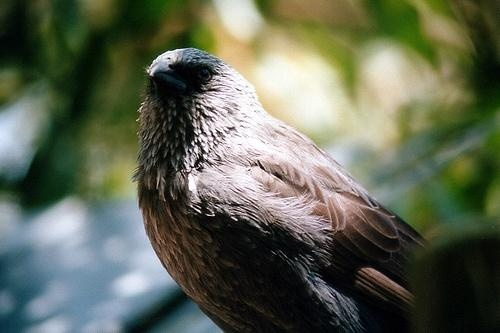bird: (133, 47, 431, 333)
